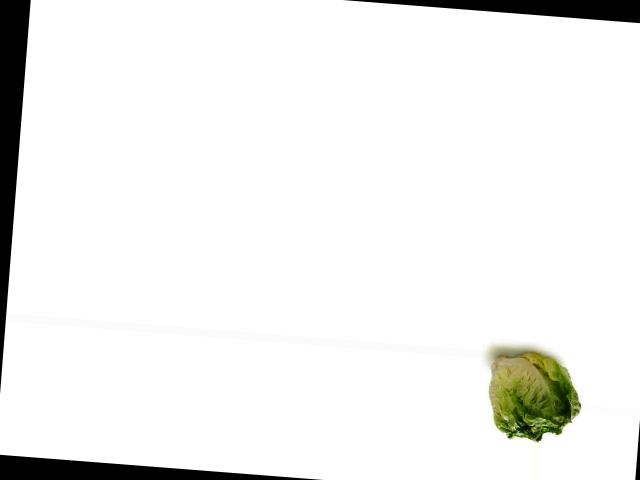lettuce: (478, 351, 589, 448)
